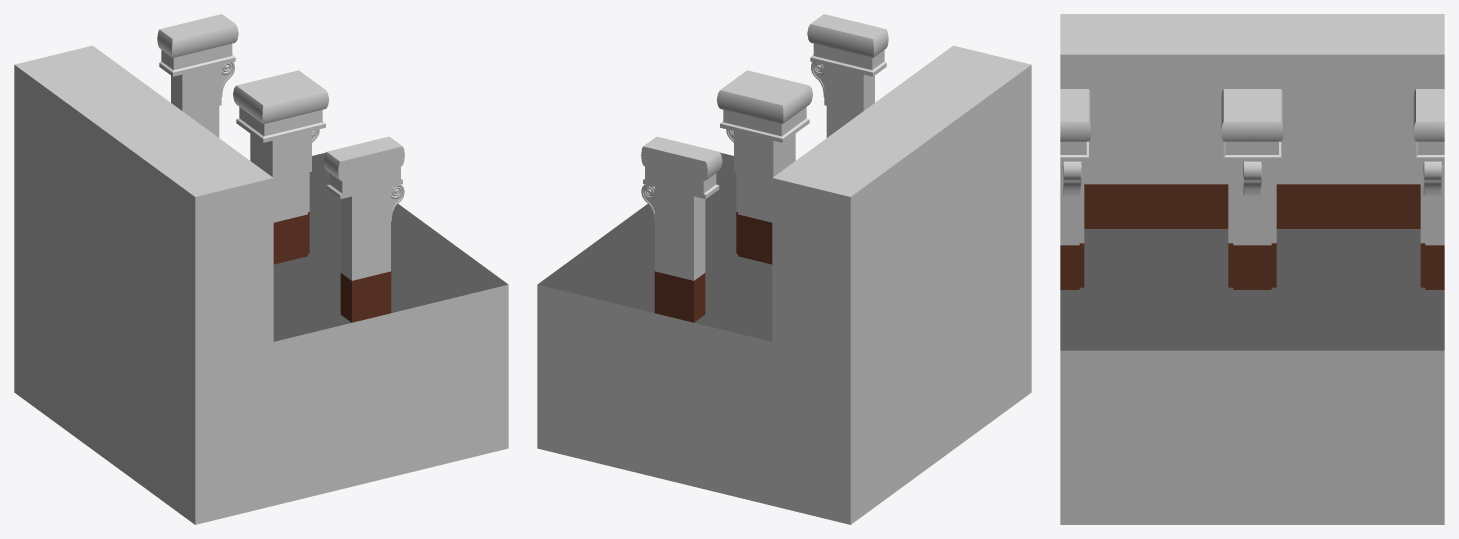
The model's file is House_Base_Straight_Back_var0.fbx.
3 renders of one model, left to right at view 1: azimuth 30°, elevation 25°; view 2: azimuth 150°, elevation 25°; view 3: azimuth 270°, elevation 25°, orthographic. The views are drawn at different scales.
Parts seen in each view (by area): view 1: House_Base_Straight_Back_MESH; view 2: House_Base_Straight_Back_MESH; view 3: House_Base_Straight_Back_MESH.
Boxes of the visible parts, x1,y1,x2,y2 form: House_Base_Straight_Back_MESH: [14, 14, 508, 524]; House_Base_Straight_Back_MESH: [537, 14, 1031, 524]; House_Base_Straight_Back_MESH: [1060, 14, 1444, 524].
Bounding box in the file's own units: 4 × 4 × 4.
